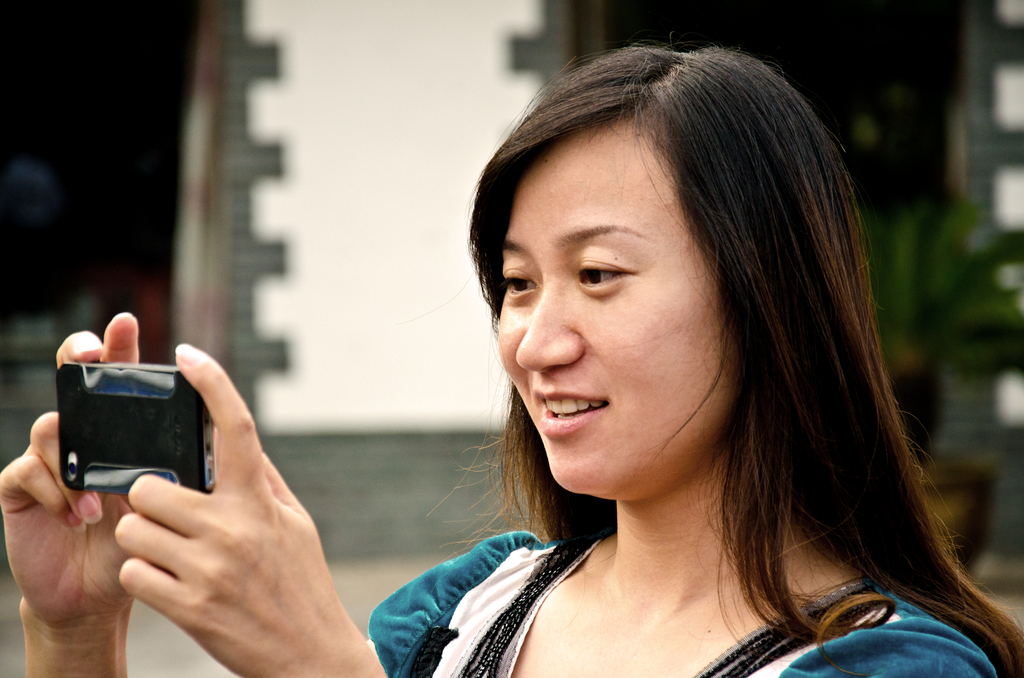Mobile-phone: (56, 361, 211, 495)
